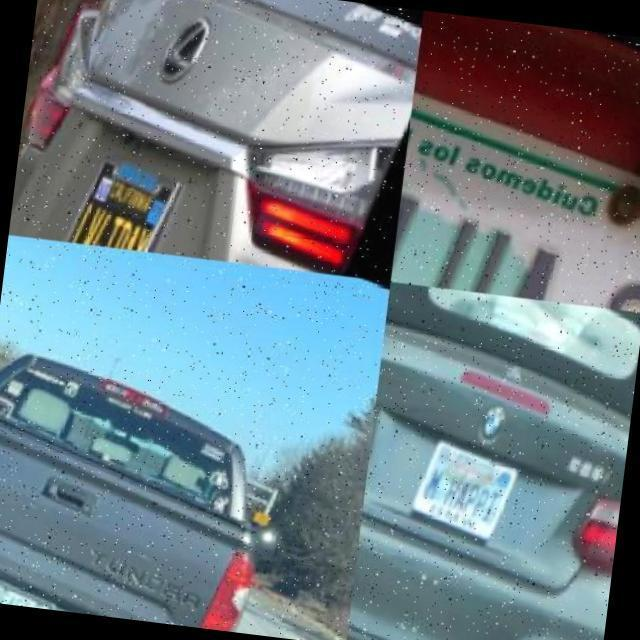License Plate: (390, 111, 640, 312), (406, 430, 526, 550), (54, 145, 184, 255), (0, 573, 65, 610)
